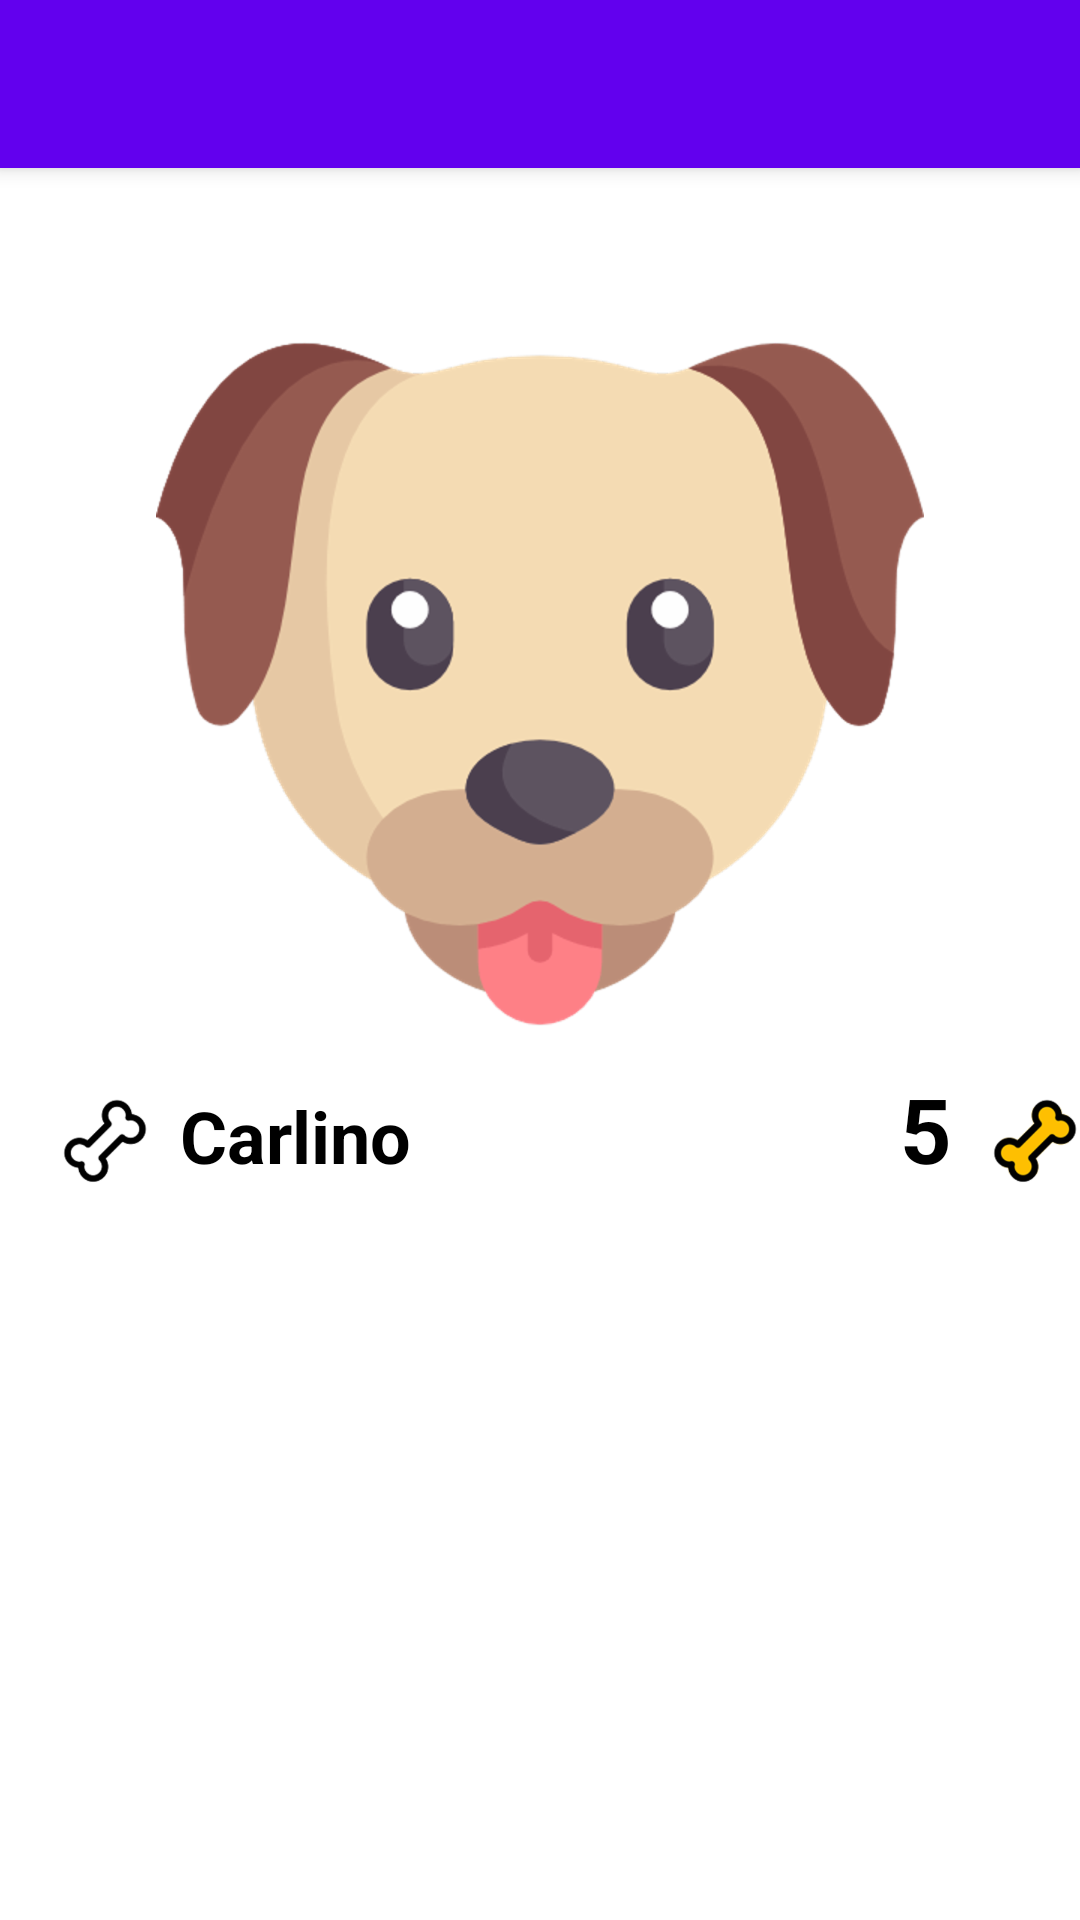

Locate icon controls on the screen. Image size 1080×1920, boxes as (x1, y1, x2, y2).
hueso: (64, 1100, 146, 1182)
hueso amarillo: (994, 1100, 1076, 1182)
